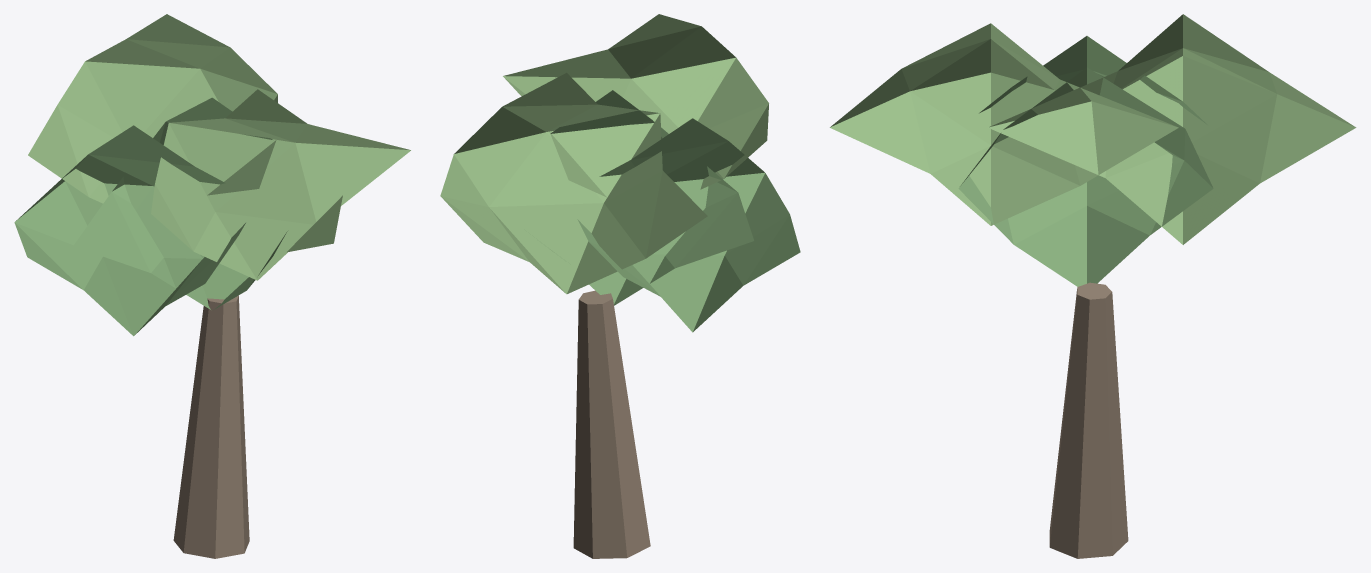
The model's file is broadleaf_v21.glb.
3 views of the same model, side by side, from view 1: azimuth 30°, elevation 25°; view 2: azimuth 150°, elevation 25°; view 3: azimuth 270°, elevation 25° (orthographic). The views are drawn at different scales.
Parts seen in each view (by area): view 1: lod0; view 2: lod0; view 3: lod0.
Part boxes in pixels (box(x1,y1,x2,y2)): lod0: box(14, 14, 410, 558); lod0: box(440, 14, 800, 558); lod0: box(830, 14, 1356, 558).
Size of what is drawn, in the model's own units: 3.6 by 5.06 by 4.58.
